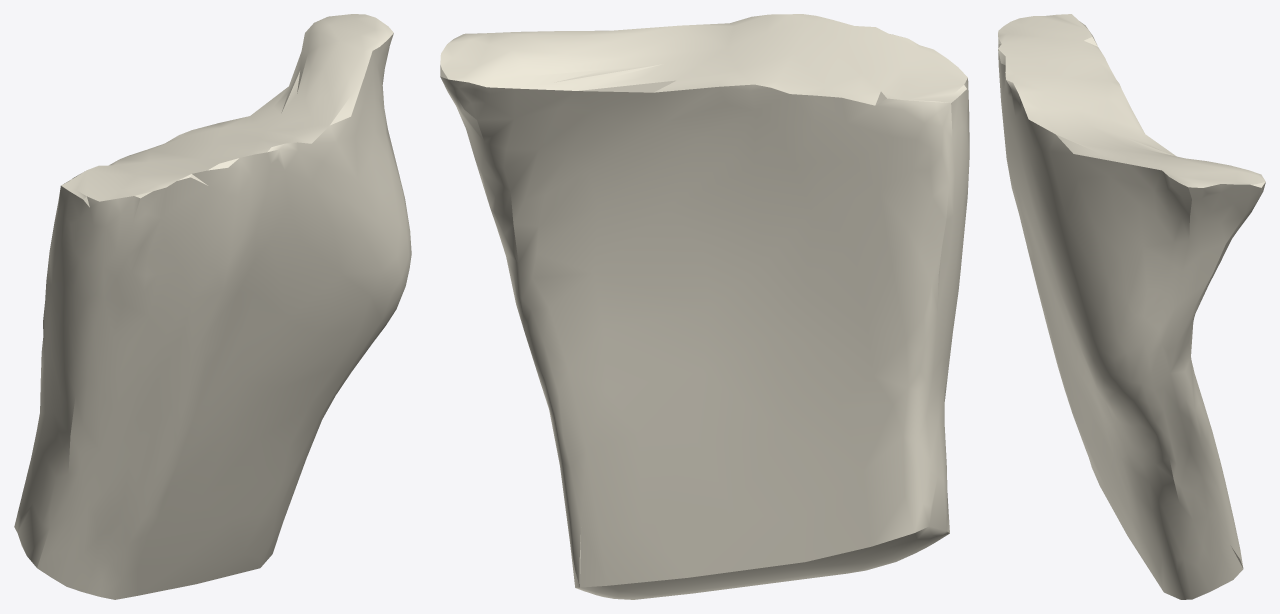
Rendered from fma323752-r_mm1419m.glb.
3 views of the same model, side by side, from view 1: azimuth 30°, elevation 25°; view 2: azimuth 150°, elevation 25°; view 3: azimuth 270°, elevation 25° (orthographic). The views are drawn at different scales.
Visible parts, largest first — view 1: FMA323752-R_MM1419M; view 2: FMA323752-R_MM1419M; view 3: FMA323752-R_MM1419M.
Part boxes in pixels (x1,y1,x2,y2): FMA323752-R_MM1419M: (14,14,411,599); FMA323752-R_MM1419M: (440,14,969,599); FMA323752-R_MM1419M: (998,14,1265,599).
Bounding box in the file's own units: 0.00775 × 0.00893 × 0.00453.
